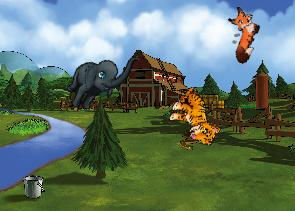elephant: (61, 37, 139, 122)
fox: (215, 4, 266, 65)
tiger: (162, 83, 231, 149)
